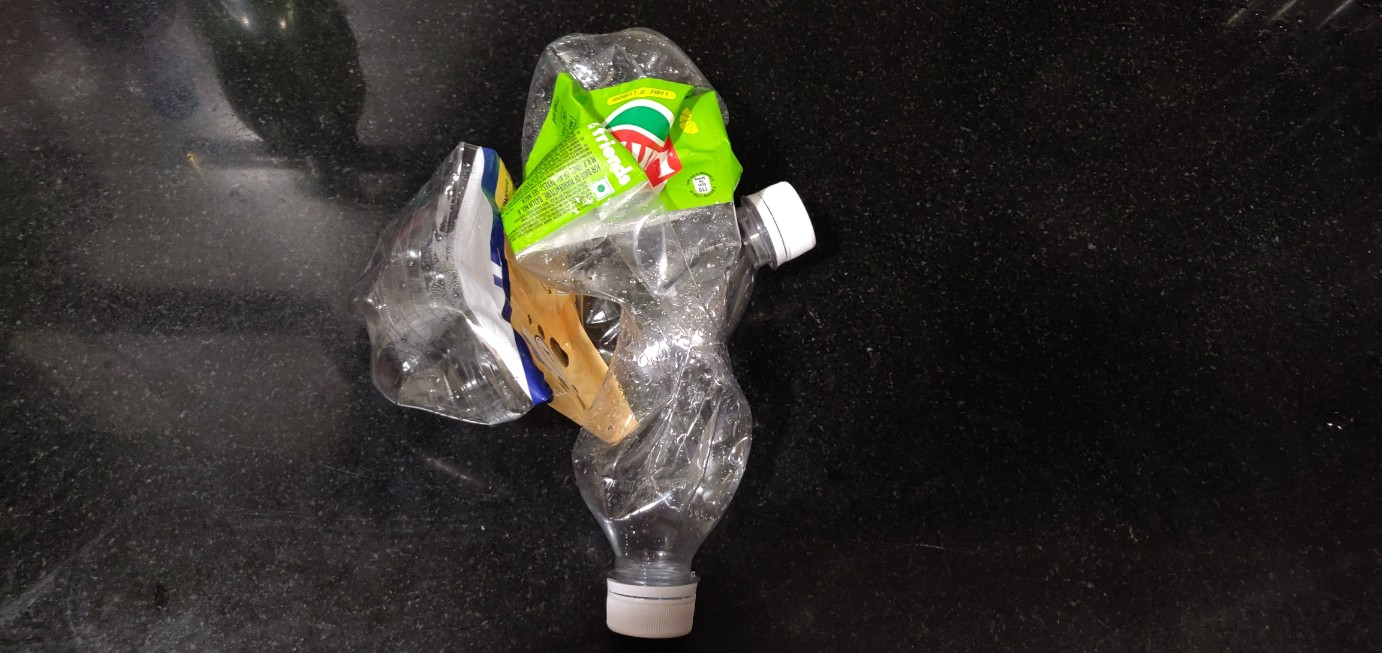Electronics: (315, 124, 898, 435), (497, 5, 767, 644)
